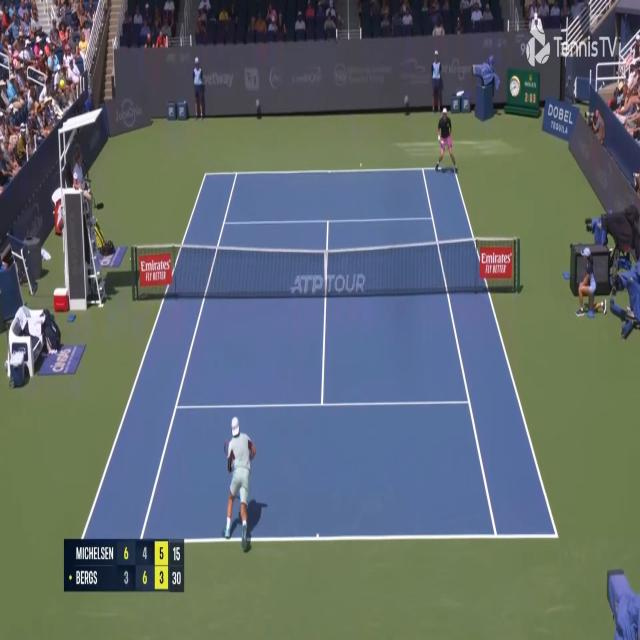tennis-player: (221, 412, 266, 558), (434, 105, 459, 179)
